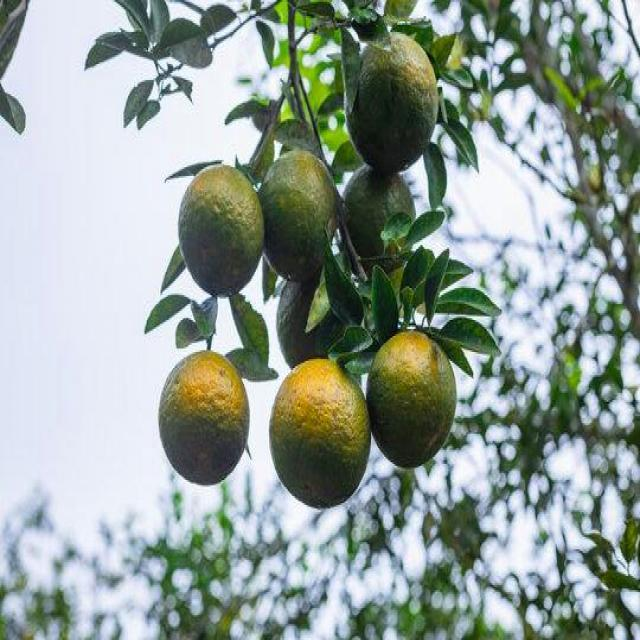Jeruk Belum Matang: (268, 354, 372, 516), (344, 31, 436, 172), (158, 351, 252, 484), (370, 330, 456, 468), (178, 166, 264, 296), (260, 147, 336, 281), (340, 162, 416, 276)
